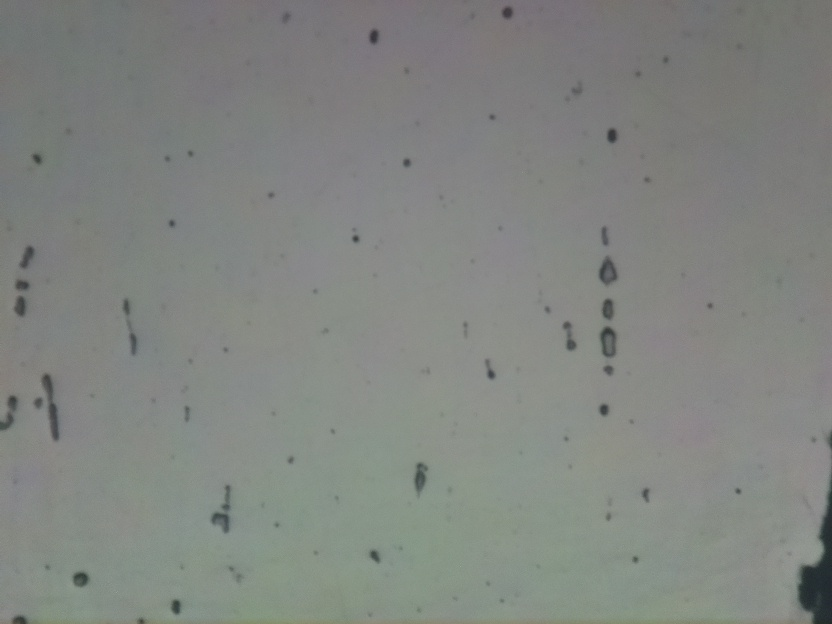crack: (794, 460, 832, 624)
